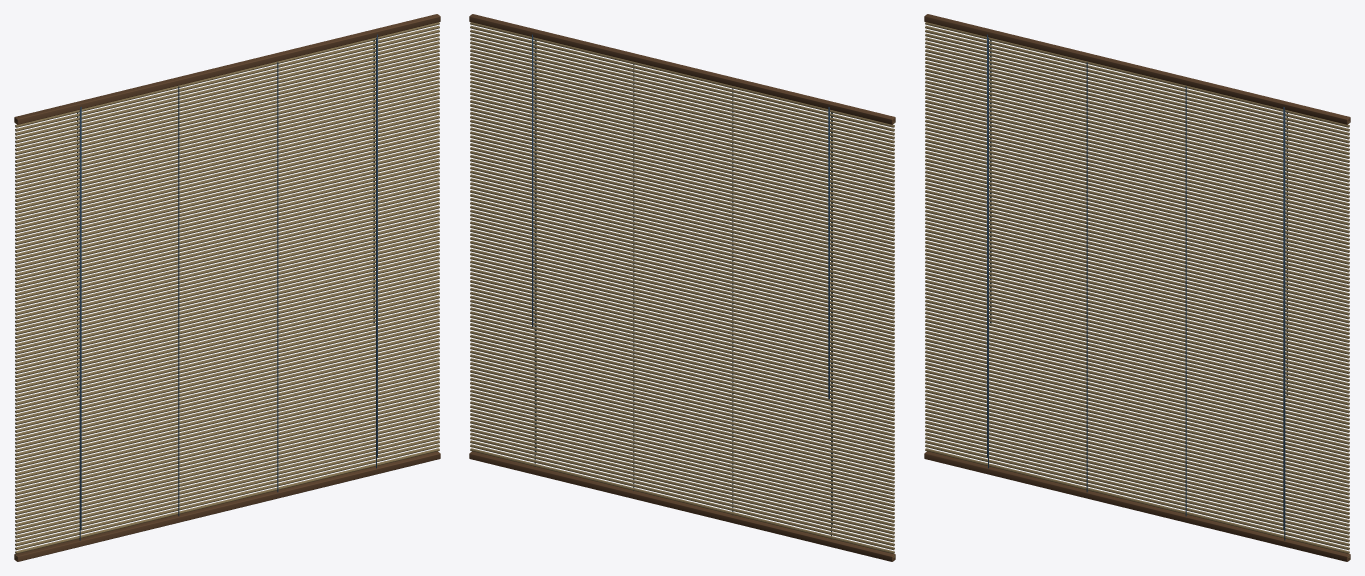
Rendered from kominka-sudare-01.glb.
3 views of the same model, side by side, from view 1: azimuth 30°, elevation 25°; view 2: azimuth 150°, elevation 25°; view 3: azimuth 330°, elevation 25° (orthographic).
Parts seen in each view (by area): view 1: kominka-sudare-01; view 2: kominka-sudare-01; view 3: kominka-sudare-01.
Part boxes in pixels (left/top/right/bottom): kominka-sudare-01: left=14, top=14, right=440, bottom=561; kominka-sudare-01: left=469, top=14, right=895, bottom=561; kominka-sudare-01: left=924, top=14, right=1350, bottom=561.
Bounding box in the file's own units: 1.8 × 1.8 × 0.03.
